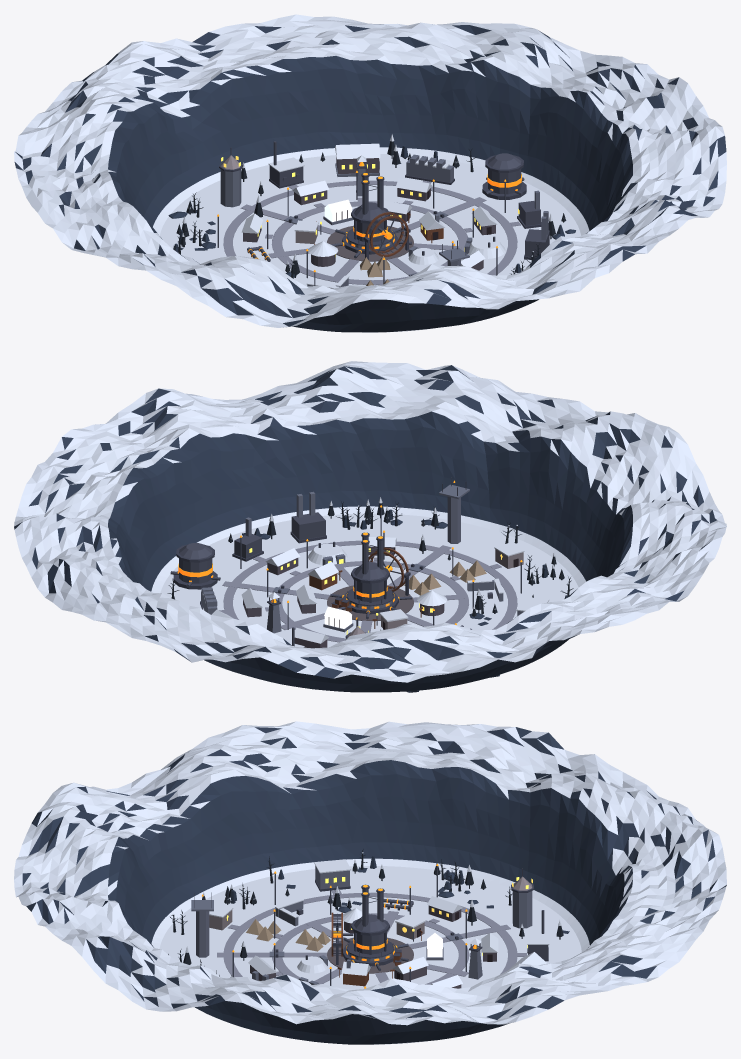
File: city.glb
3 views of the same model, one above another, from view 1: azimuth 30°, elevation 25°; view 2: azimuth 150°, elevation 25°; view 3: azimuth 270°, elevation 25° (orthographic).
Visible parts, largest first — view 1: TLW_crater_342, TLW_fx, TLW_generator, TLW_thermal_heart, TLW_grand_hall, TLW_outer_wall, TLW_observatory, TLW_infra_ring_n6, TLW_infra_ring_n5, TLW_mechanists, TLW_wheel, TLW_deep_forge (+9 smaller); view 2: TLW_crater_342, TLW_fx, TLW_generator, TLW_thermal_heart, TLW_infra_ring_n6, TLW_deep_forge, TLW_watchtower, TLW_forge, TLW_workshop, TLW_big_cellar, TLW_clinic, TLW_greenhouse (+4 smaller); view 3: TLW_crater_342, TLW_fx, TLW_generator, TLW_infra_ring_n5, TLW_observatory, TLW_hall_of_records, TLW_watchtower, TLW_mechanists, TLW_infra_ring_n6, TLW_bunkhouse_6, TLW_workshop, TLW_infirmary (+4 smaller).
Boxes of the visible parts, bbox=[...] form: TLW_crater_342: bbox=[14, 14, 726, 332]; TLW_fx: bbox=[168, 134, 575, 278]; TLW_generator: bbox=[331, 172, 411, 259]; TLW_thermal_heart: bbox=[482, 153, 526, 199]; TLW_grand_hall: bbox=[335, 143, 380, 176]; TLW_outer_wall: bbox=[405, 154, 454, 184]; TLW_observatory: bbox=[219, 147, 243, 207]; TLW_infra_ring_n6: bbox=[431, 186, 517, 275]; TLW_infra_ring_n5: bbox=[223, 180, 397, 256]; TLW_mechanists: bbox=[268, 141, 304, 188]; TLW_wheel: bbox=[365, 212, 408, 257]; TLW_deep_forge: bbox=[524, 211, 549, 259]; TLW_crater_342: bbox=[14, 361, 726, 692]; TLW_fx: bbox=[167, 497, 573, 692]; TLW_generator: bbox=[330, 532, 411, 619]; TLW_thermal_heart: bbox=[170, 543, 220, 589]; TLW_infra_ring_n6: bbox=[223, 540, 512, 617]; TLW_deep_forge: bbox=[290, 491, 326, 543]; TLW_watchtower: bbox=[439, 477, 469, 543]; TLW_forge: bbox=[232, 517, 263, 561]; TLW_workshop: bbox=[307, 558, 338, 590]; TLW_big_cellar: bbox=[308, 541, 347, 564]; TLW_clinic: bbox=[494, 542, 524, 568]; TLW_greenhouse: bbox=[323, 606, 353, 632]; TLW_crater_342: bbox=[14, 721, 726, 1044]; TLW_fx: bbox=[168, 848, 569, 977]; TLW_generator: bbox=[333, 884, 408, 970]; TLW_infra_ring_n5: bbox=[267, 892, 517, 974]; TLW_observatory: bbox=[511, 868, 534, 928]; TLW_hall_of_records: bbox=[314, 859, 351, 891]; TLW_watchtower: bbox=[191, 892, 213, 957]; TLW_mechanists: bbox=[527, 910, 549, 961]; TLW_infra_ring_n6: bbox=[223, 911, 272, 976]; TLW_bunkhouse_6: bbox=[427, 896, 462, 921]; TLW_workshop: bbox=[341, 959, 370, 986]; TLW_infirmary: bbox=[395, 914, 425, 941].
Size of what is drawn, in the model's own units: 75.2 by 12.1 by 75.2.
